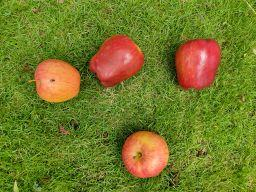apple: (84, 20, 150, 94), (112, 116, 178, 186), (22, 53, 87, 112), (173, 28, 224, 95)
